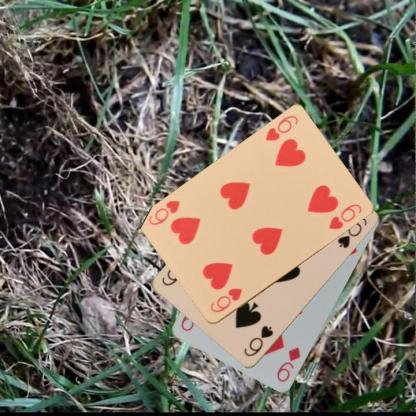6h: (262, 113, 300, 142), (207, 286, 244, 314)
6s: (241, 323, 274, 358)
9d: (274, 344, 302, 384)
